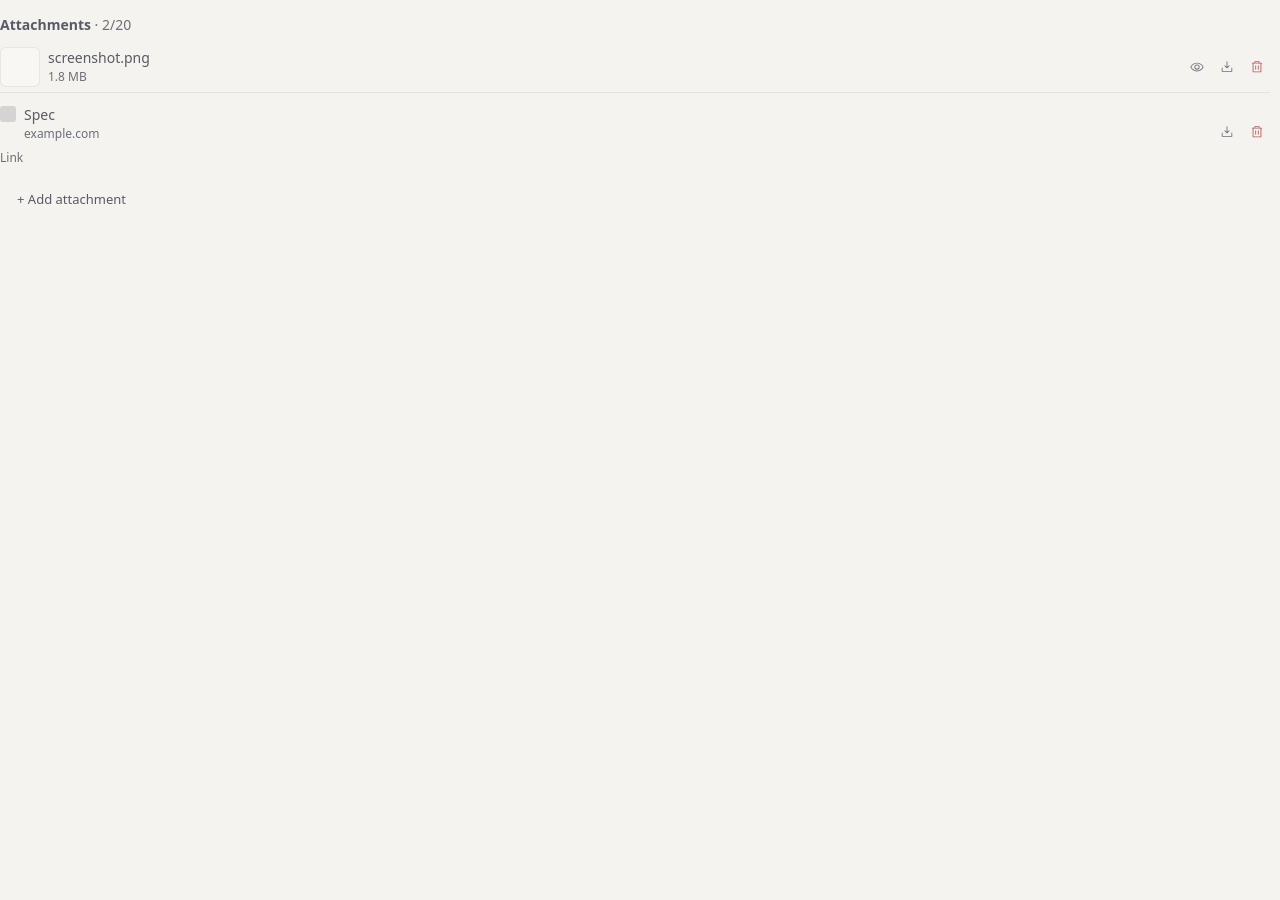
AttachmentSection › shows Eye preview for previewable files and opens the preview modal
Click the button named "Preview screenshot.png" at (1197, 66), box [1184,54,1210,80]
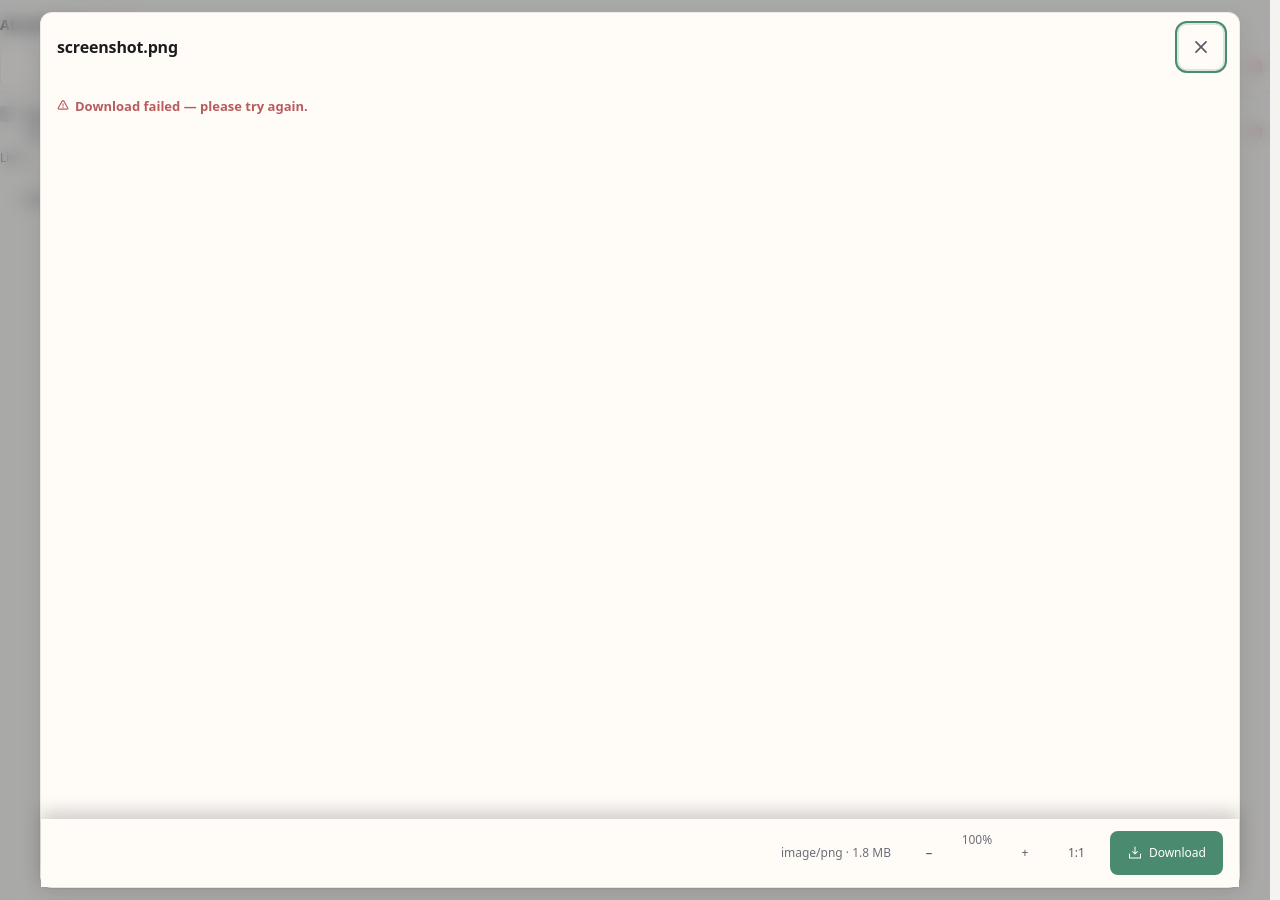
Now the dialog is shown
Now the text "Download failed — please try again." is shown, box [57,97,308,115]
